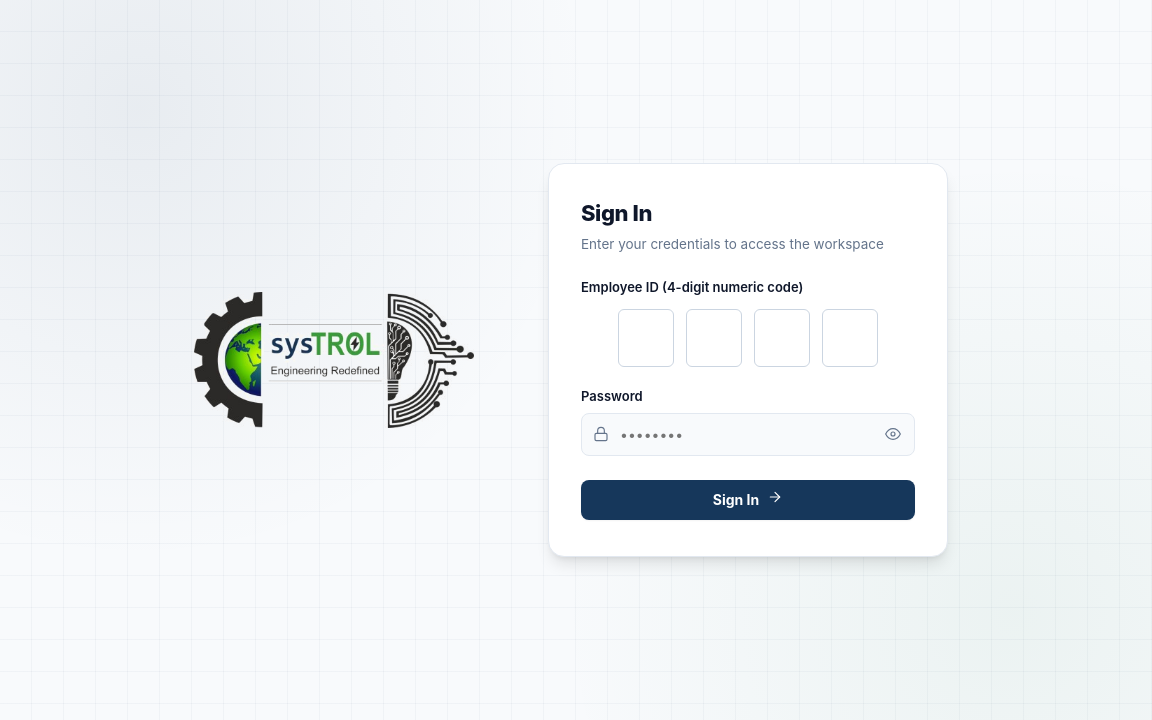
Scenario: LoginPage › displays lockout banner when account is locked
The image size is (1152, 720).
Type "0" into the field with test id "employee-code-digit-0" at (646, 338), box [618,309,674,367]
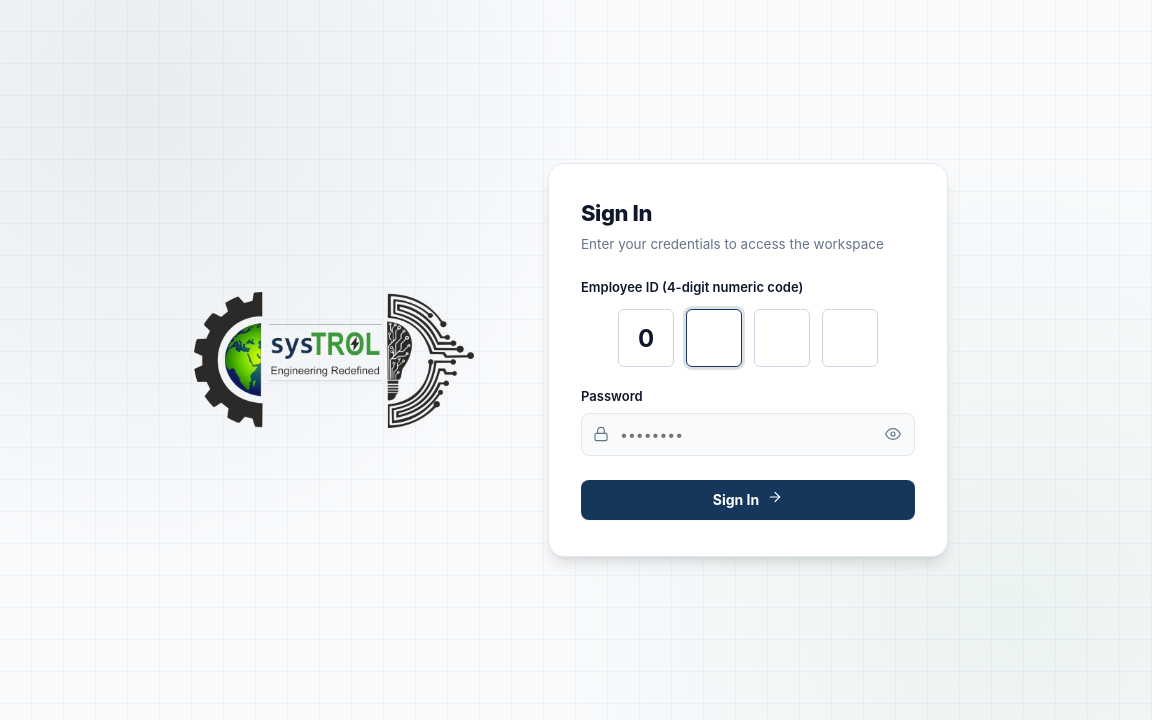
Type "0" into the field named "Digit 2" at (714, 338), box [686,309,742,367]
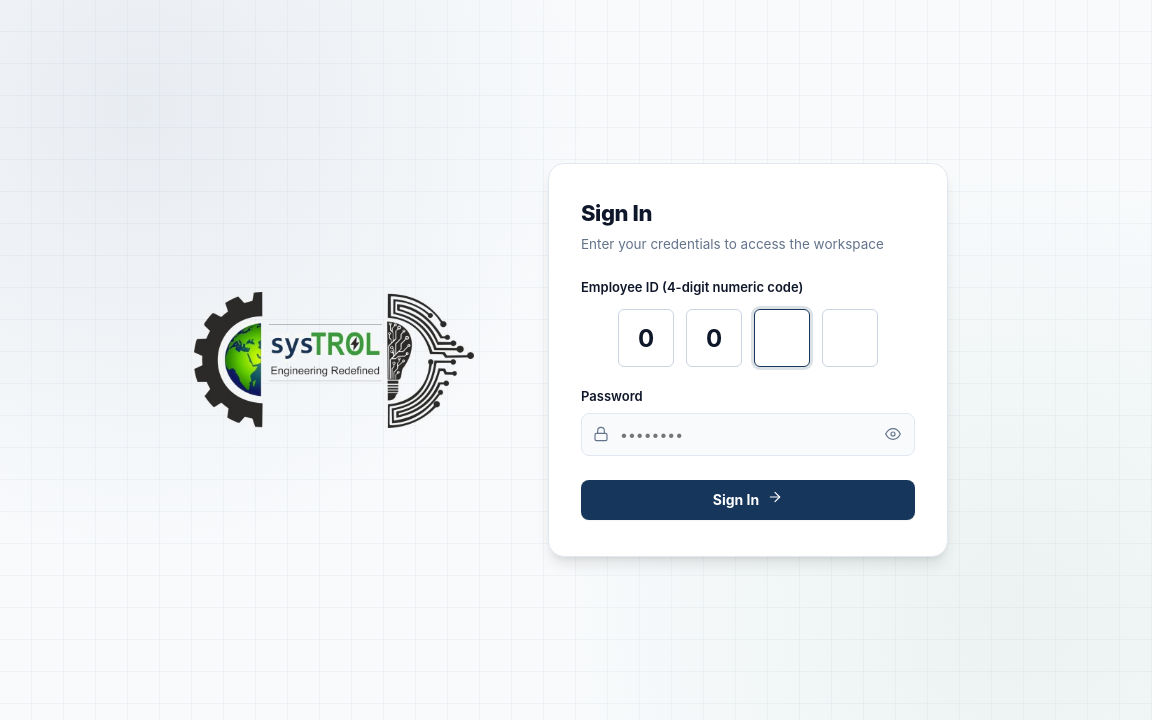
Type "0" into the field named "Digit 3" at (782, 338), box [754,309,810,367]
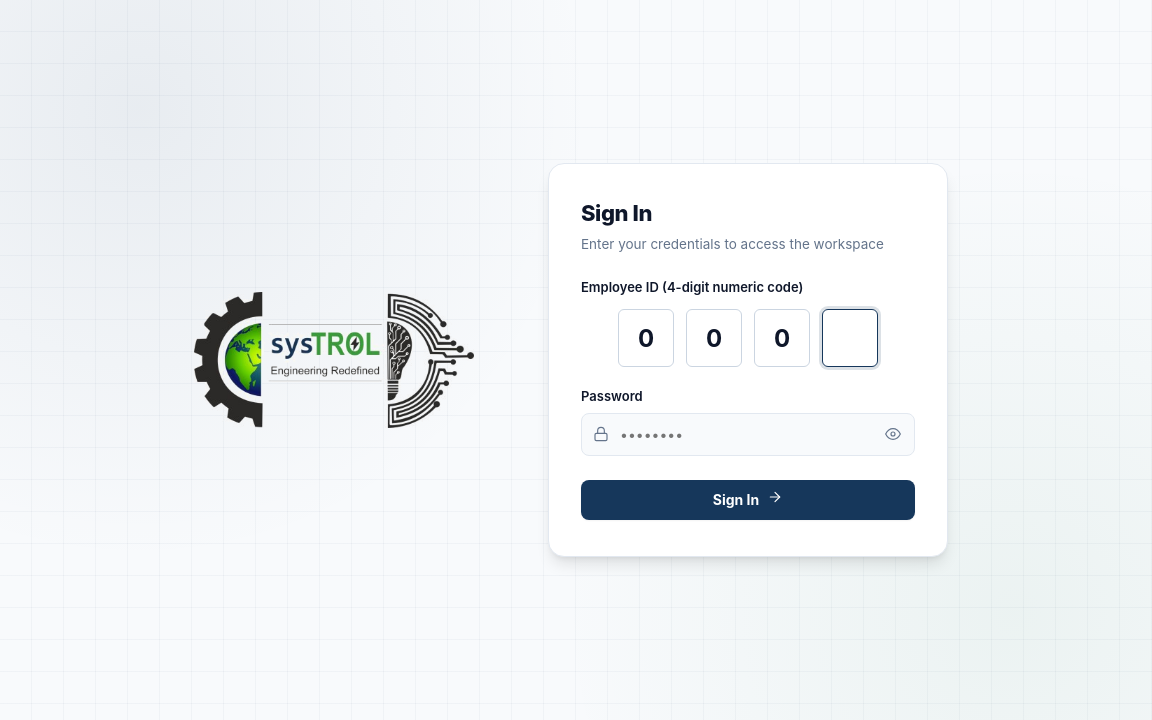
Type "1" into the field named "Digit 4" at (850, 338), box [822,309,878,367]
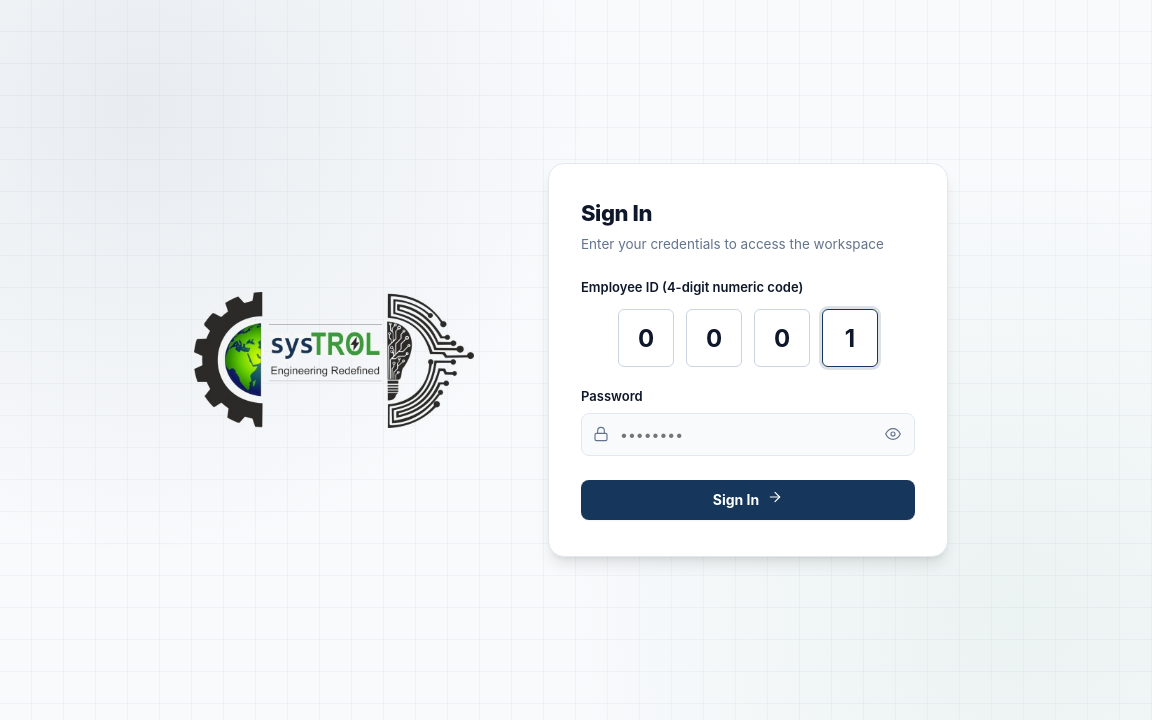
Type "wrongpassword" into the password field labelled "Password" at (748, 434), box [581,413,915,456]
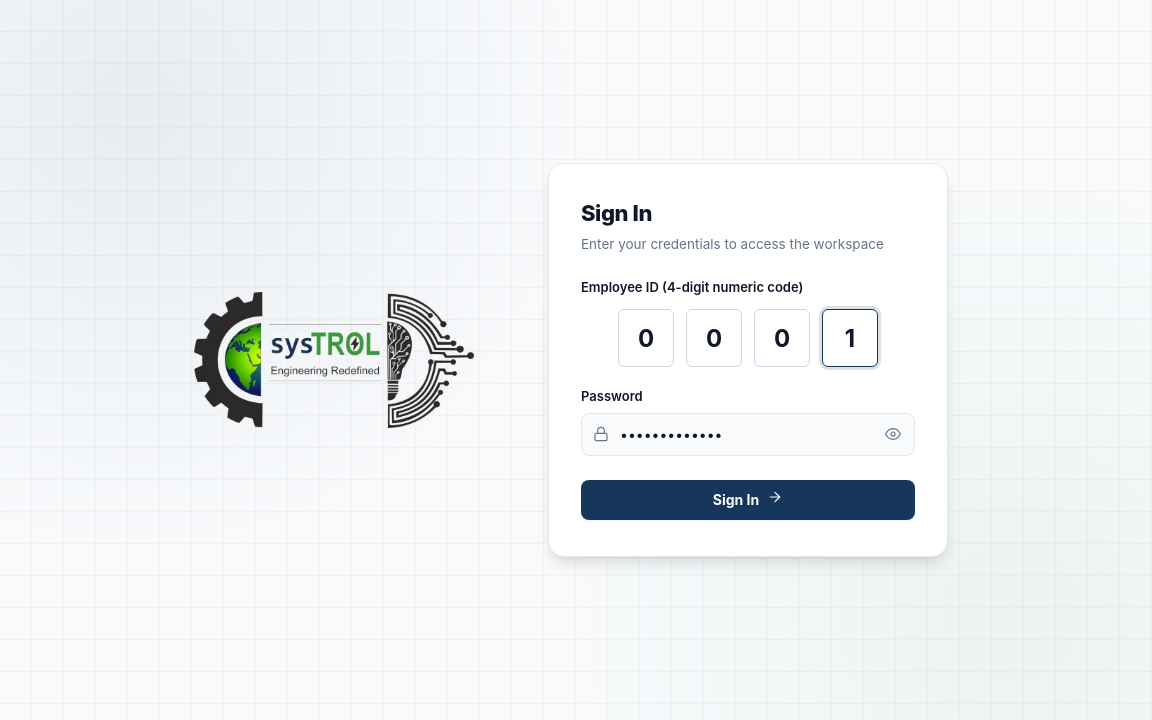
Click the button "Sign In" at (748, 500), box [581,480,915,520]
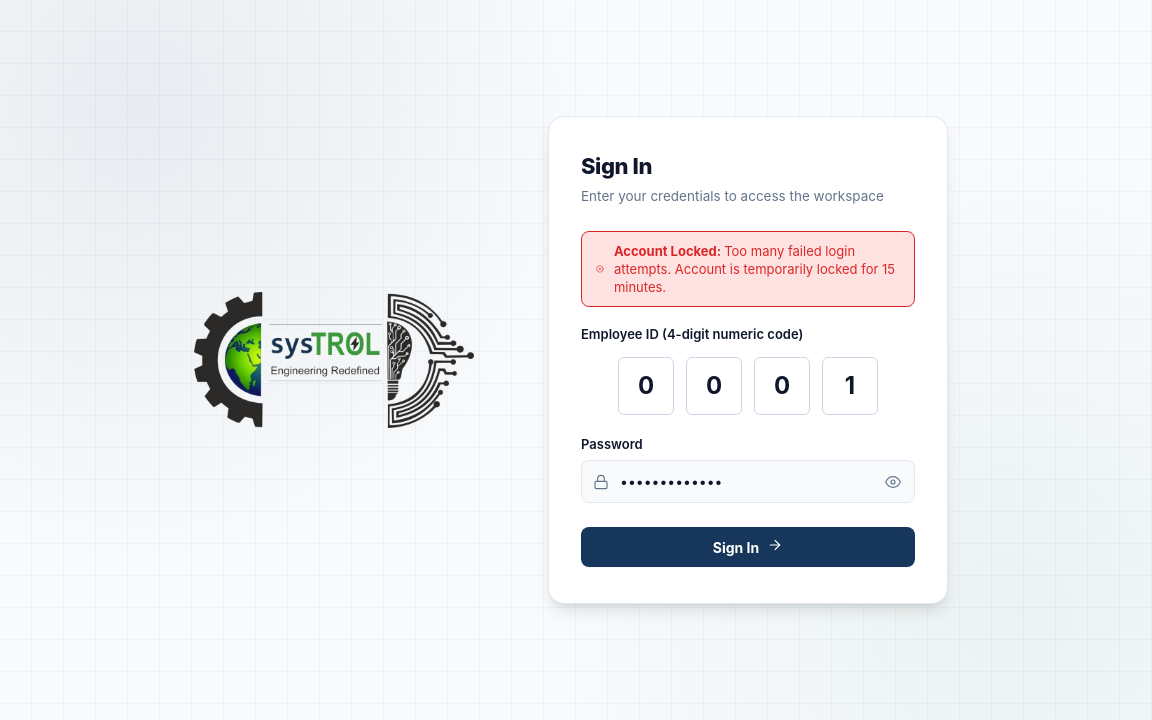
Check: the message with test id "banner-lockout" is shown, box [581,231,915,307]
Check: the text "Account is temporarily locked for 15 minutes" is shown, box [614,243,895,295]
